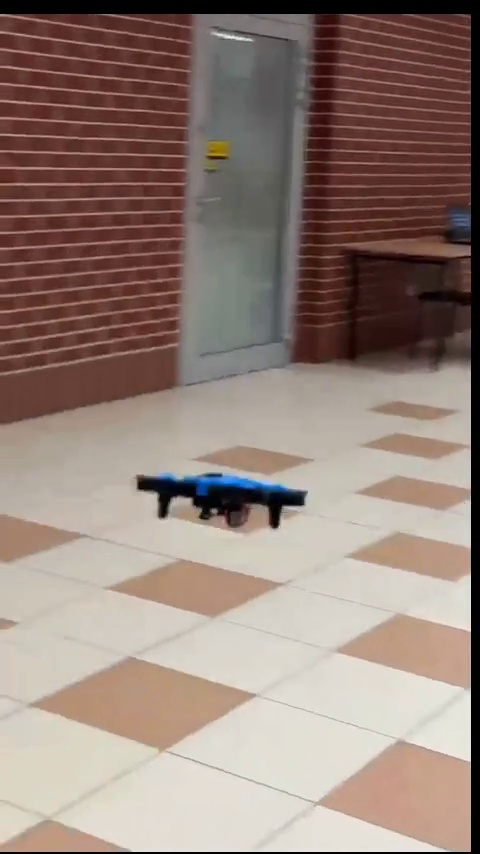drone: (136, 473, 304, 532)
